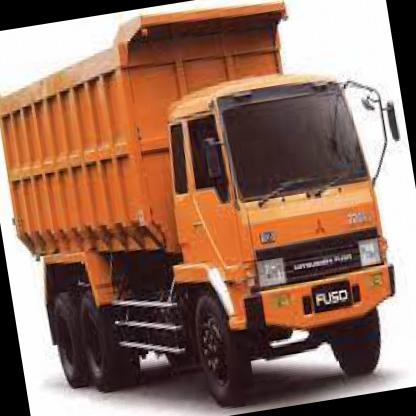truck: (155, 64, 402, 412)
